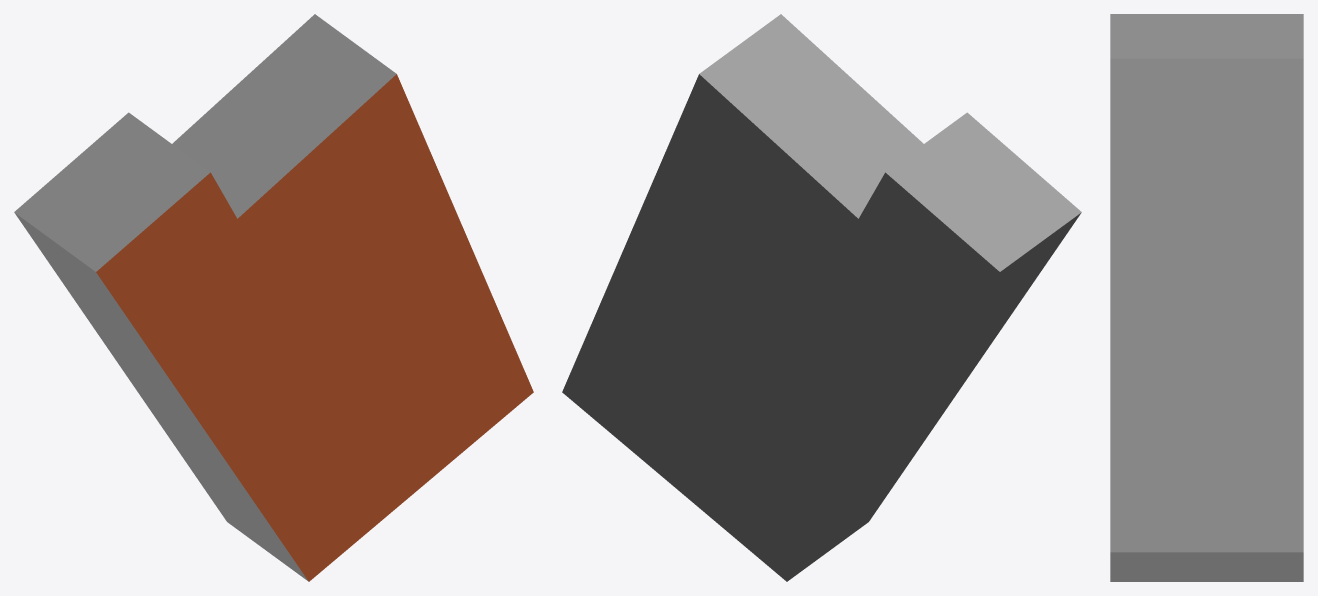
File: construction_6061_assumed_A_Casa_h6m.obj
3 renders of one model, left to right at view 1: azimuth 30°, elevation 25°; view 2: azimuth 150°, elevation 25°; view 3: azimuth 270°, elevation 25°, orthographic. The views are drawn at different scales.
Parts seen in each view (by area): view 1: construction_6061_assumed_A_Casa; view 2: construction_6061_assumed_A_Casa; view 3: construction_6061_assumed_A_Casa.
Part boxes in pixels (bbox=[...]): construction_6061_assumed_A_Casa: bbox=[14, 14, 533, 581]; construction_6061_assumed_A_Casa: bbox=[562, 14, 1081, 581]; construction_6061_assumed_A_Casa: bbox=[1110, 14, 1303, 581].
Size of the model in its own units: 18.51 by 19.66 by 6.
